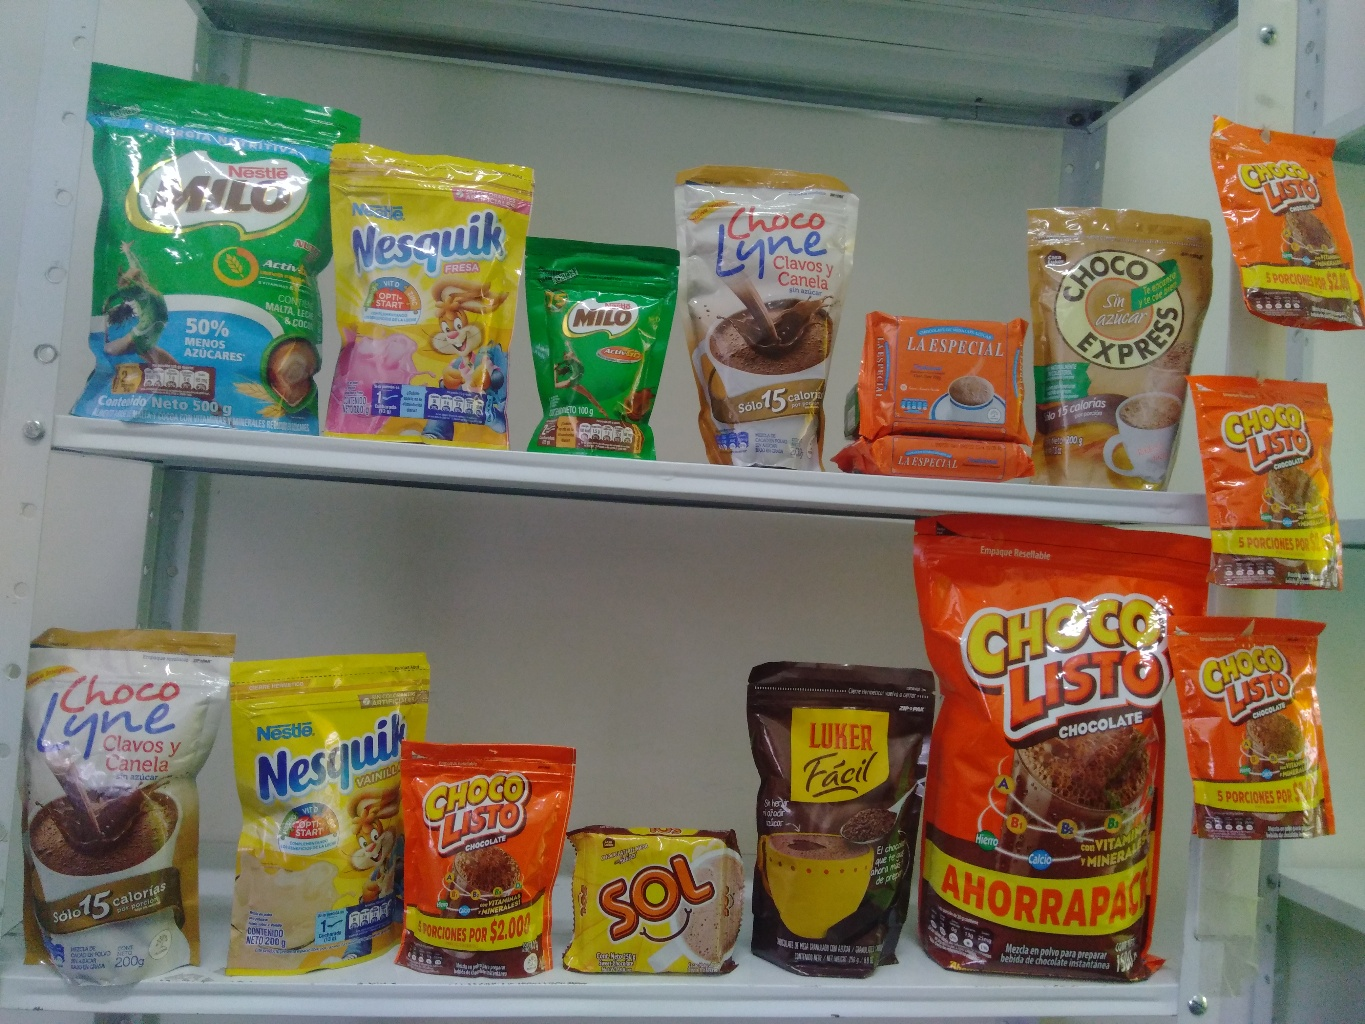COL0170103DYP1,500: (911, 516, 1198, 985)
COL0170203DYP10000: (518, 228, 691, 456)
COL0170205DYP50000: (85, 54, 384, 437)
COL0170305DYP20000: (332, 141, 537, 449)
COL0170306DYP20000: (208, 649, 449, 976)
